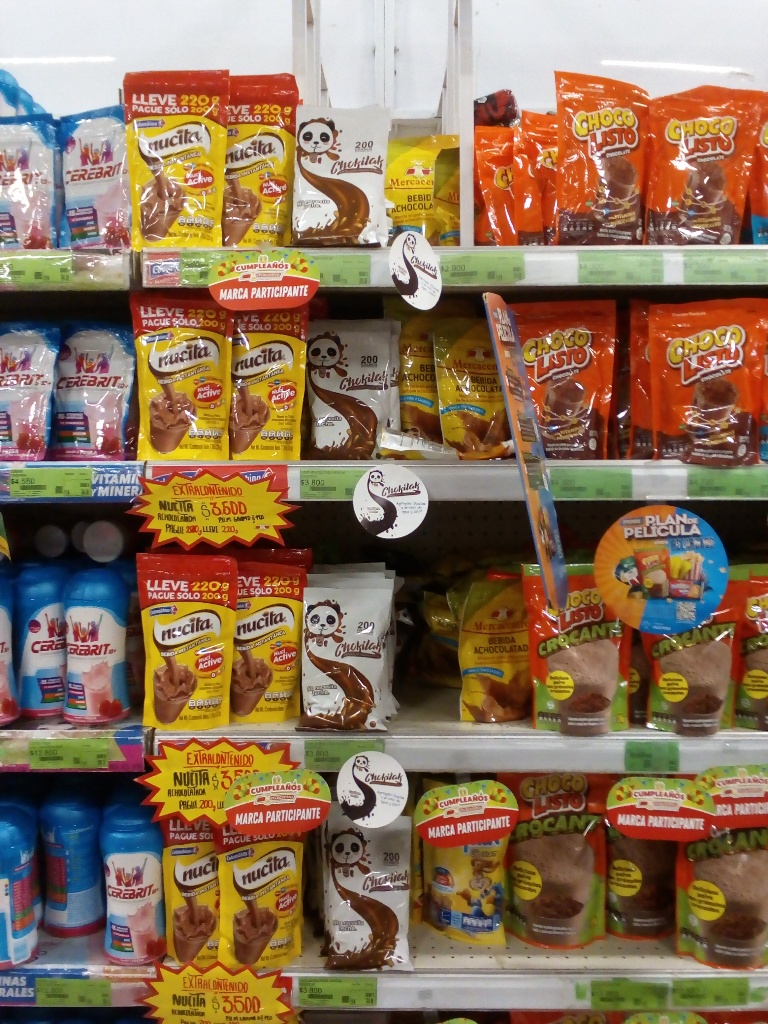COL0170102DYP50000: (500, 775, 608, 947)
COL0170303DYP20000: (412, 838, 505, 956)
